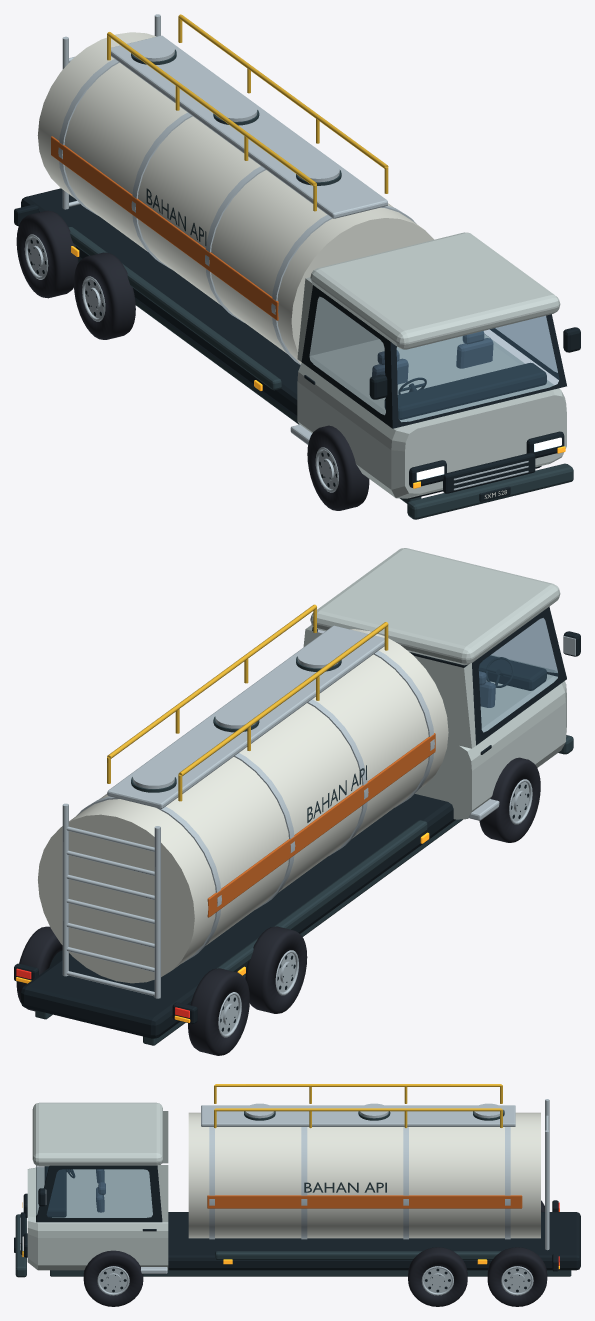
3 views of the same model, one above another, from view 1: azimuth 30°, elevation 25°; view 2: azimuth 150°, elevation 25°; view 3: azimuth 270°, elevation 25° (orthographic). The views are drawn at different scales.
Parts seen in each view (by area): view 1: Kuantan Fuel Bowser; view 2: Kuantan Fuel Bowser; view 3: Kuantan Fuel Bowser.
Part boxes in pixels (x1,y1,x2,y2): Kuantan Fuel Bowser: (14,14,580,519); Kuantan Fuel Bowser: (14,548,580,1055); Kuantan Fuel Bowser: (14,1084,580,1306).
Size of the model in its own units: 2.63 by 3.11 by 8.91.
